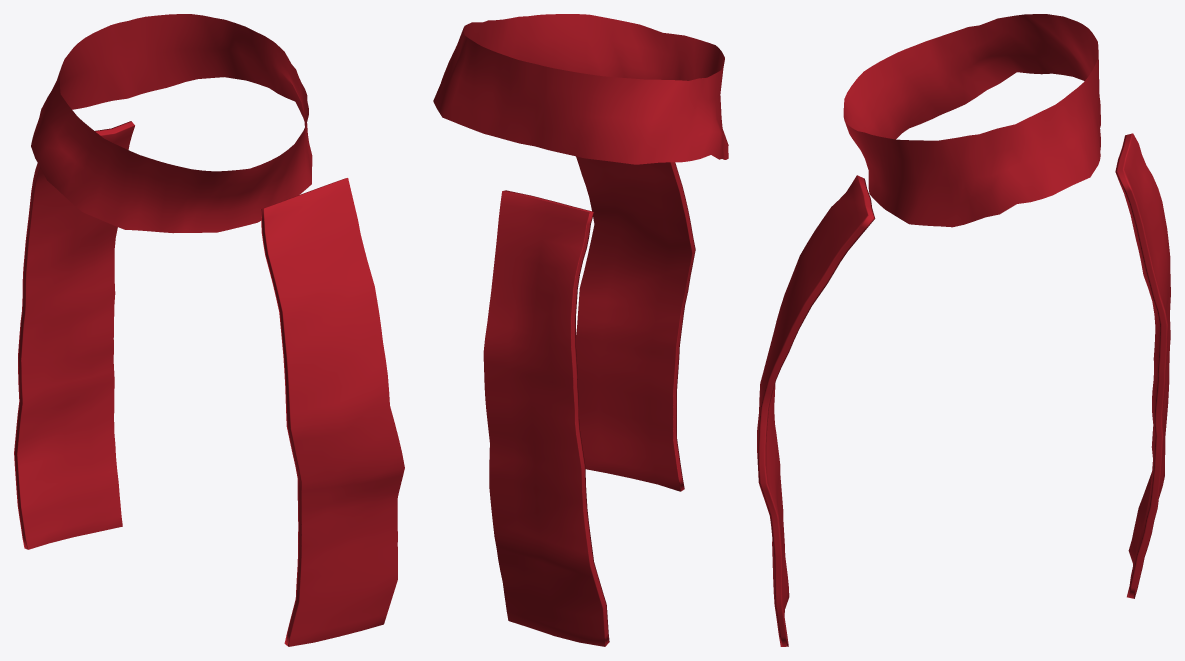
Rendered from scarf.glb.
3 renders of one model, left to right at view 1: azimuth 30°, elevation 25°; view 2: azimuth 150°, elevation 25°; view 3: azimuth 270°, elevation 25°, orthographic. The views are drawn at different scales.
Visible parts, largest first — view 1: scarf; view 2: scarf; view 3: scarf.
Boxes of the visible parts, x1,y1,x2,y2 form: scarf: (14,14,404,646); scarf: (433,14,728,646); scarf: (757,14,1170,646).
Size of the model in its own units: 0.2215 by 0.4291 by 0.2949.
